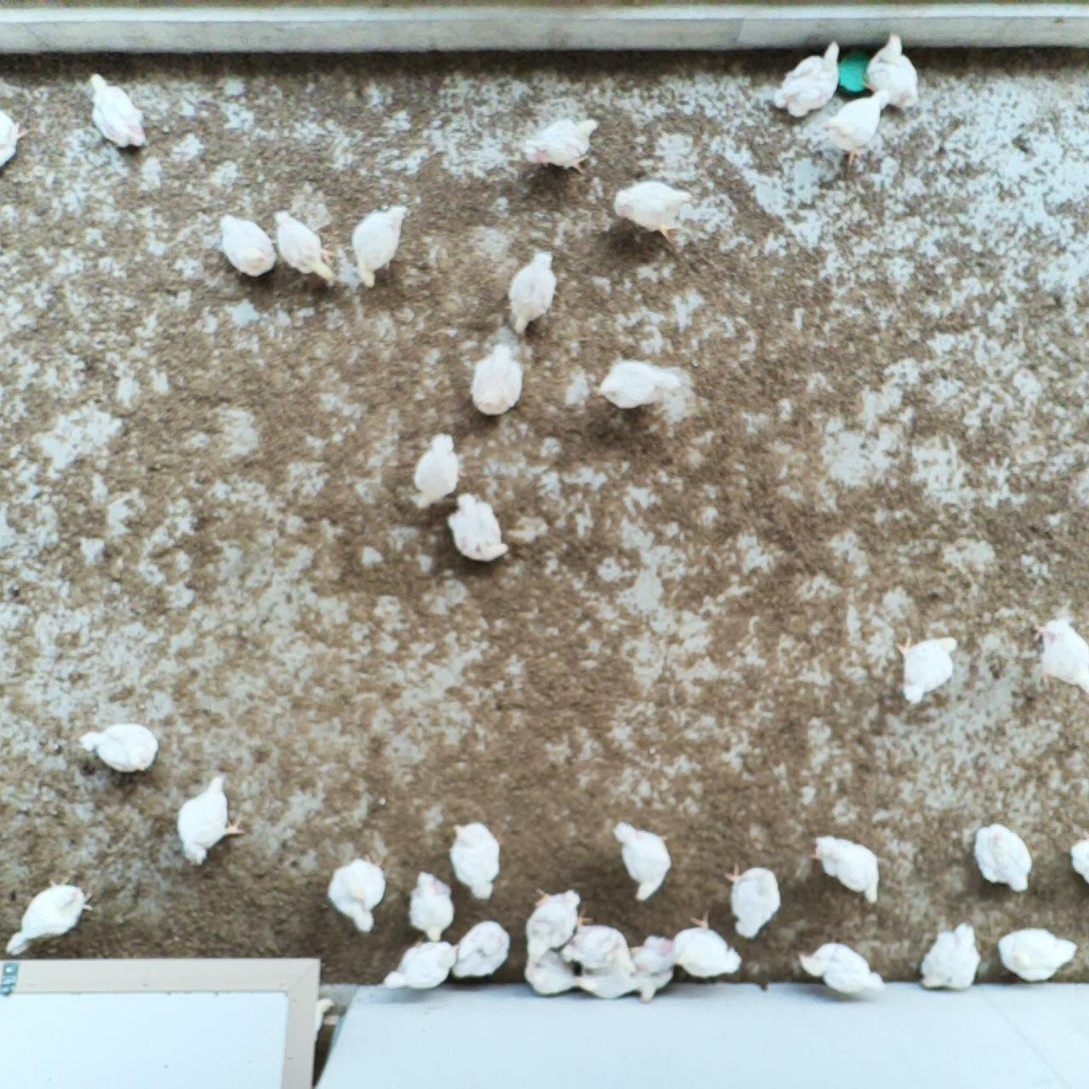chicken: (4, 874, 94, 959), (176, 768, 242, 868), (768, 37, 844, 119), (611, 818, 675, 909), (659, 913, 744, 981), (610, 179, 693, 248), (824, 86, 893, 167), (807, 827, 881, 902), (269, 204, 338, 284), (798, 936, 888, 997), (994, 921, 1079, 985), (715, 862, 783, 941), (443, 487, 511, 566), (84, 71, 150, 151), (350, 200, 407, 292), (597, 356, 684, 416), (866, 27, 923, 118), (968, 819, 1035, 895), (81, 717, 163, 778), (212, 206, 280, 279), (522, 882, 586, 959), (896, 629, 959, 707), (916, 922, 985, 993), (326, 854, 386, 935), (506, 247, 561, 335), (525, 109, 598, 174), (1029, 619, 1089, 694), (449, 818, 503, 901), (470, 341, 522, 418), (402, 871, 456, 944), (383, 941, 456, 993), (454, 917, 510, 983), (413, 430, 460, 507), (522, 944, 581, 999), (561, 922, 630, 969), (572, 957, 637, 1003), (626, 932, 677, 976), (628, 964, 680, 1000), (0, 110, 30, 168), (1068, 835, 1089, 887)
